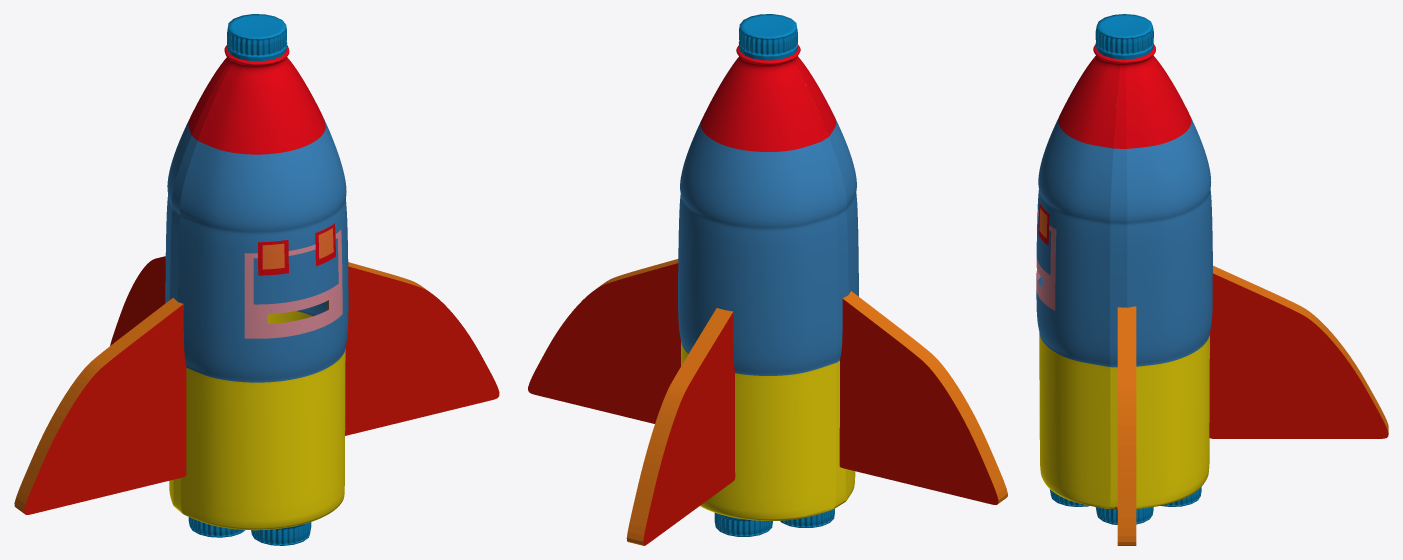
Rendered from Botol Plastik Celengan.fbx.
3 renders of one model, left to right at view 1: azimuth 30°, elevation 25°; view 2: azimuth 150°, elevation 25°; view 3: azimuth 270°, elevation 25°, orthographic. The views are drawn at different scales.
Parts seen in each view (by area): view 1: Botol.001, Sayap, Plane.001, Tutup_Botol, Plane.002, Tutup_Botol.003, Tutup_Botol.001; view 2: Botol.001, Sayap, Plane.001, Plane.002, Tutup_Botol, Tutup_Botol.004; view 3: Botol.001, Plane.002, Plane.001, Tutup_Botol, Tutup_Botol.002.
Boxes of the visible parts, left/top/right/bottom form: Botol.001: left=165, top=45, right=348, bottom=530; Sayap: left=14, top=298, right=186, bottom=514; Plane.001: left=327, top=262, right=499, bottom=435; Tutup_Botol: left=226, top=14, right=287, bottom=61; Plane.002: left=110, top=256, right=165, bottom=345; Tutup_Botol.003: left=251, top=522, right=311, bottom=545; Tutup_Botol.001: left=188, top=517, right=245, bottom=537; Botol.001: left=678, top=45, right=858, bottom=520; Sayap: left=839, top=291, right=1007, bottom=504; Plane.001: left=528, top=259, right=680, bottom=423; Plane.002: left=626, top=308, right=735, bottom=545; Tutup_Botol: left=738, top=14, right=798, bottom=60; Tutup_Botol.004: left=714, top=513, right=772, bottom=536; Botol.001: left=1036, top=44, right=1212, bottom=509; Plane.002: left=1209, top=265, right=1388, bottom=438; Plane.001: left=1117, top=306, right=1136, bottom=545; Tutup_Botol: left=1095, top=14, right=1153, bottom=59; Tutup_Botol.002: left=1095, top=507, right=1153, bottom=524.
Bounding box in the file's own units: 240 × 235 × 160.
